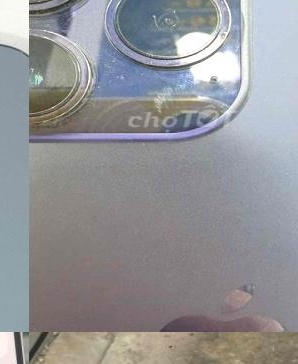scratch: (96, 63, 274, 124), (29, 0, 141, 53), (29, 51, 86, 139)
